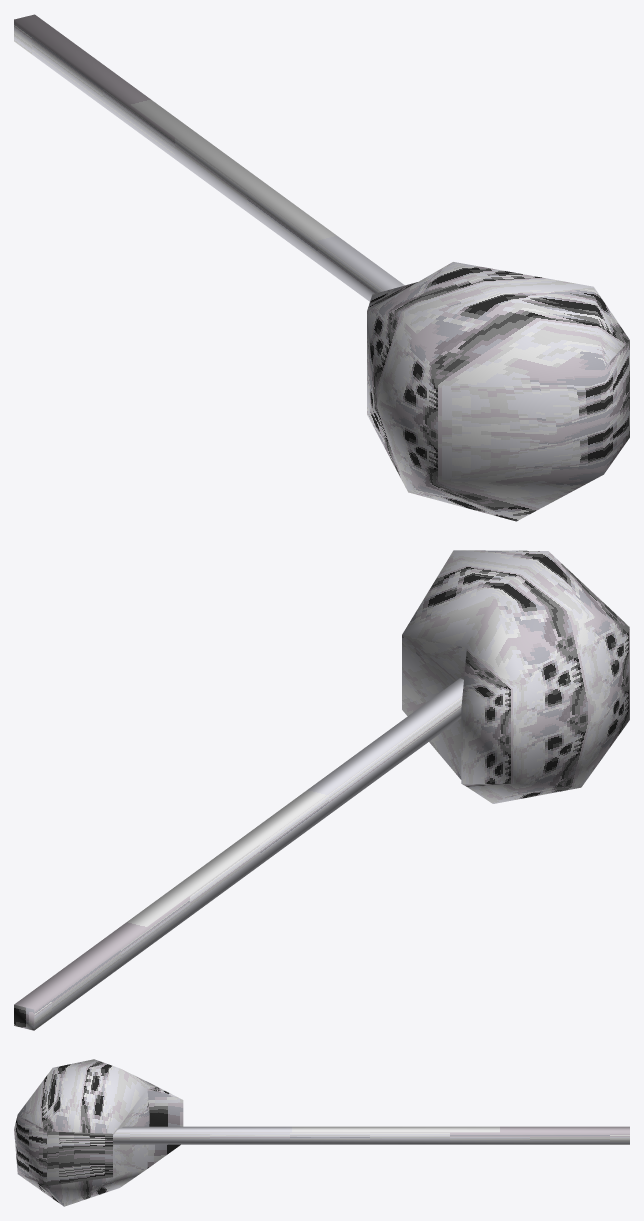
The model's file is 06_00_stick.gltf.
3 views of the same model, one above another, from view 1: azimuth 30°, elevation 25°; view 2: azimuth 150°, elevation 25°; view 3: azimuth 270°, elevation 25° (orthographic). The views are drawn at different scales.
Visible parts, largest first — view 1: 06_00_stick; view 2: 06_00_stick; view 3: 06_00_stick.
Boxes of the visible parts, <box> form: 06_00_stick: <box>14,14,629,521</box>; 06_00_stick: <box>14,550,629,1030</box>; 06_00_stick: <box>14,1059,629,1206</box>.
Bounding box in the file's own units: 0.2446 × 0.2495 × 1.14.
Materials: 1 (1 with a texture image).
